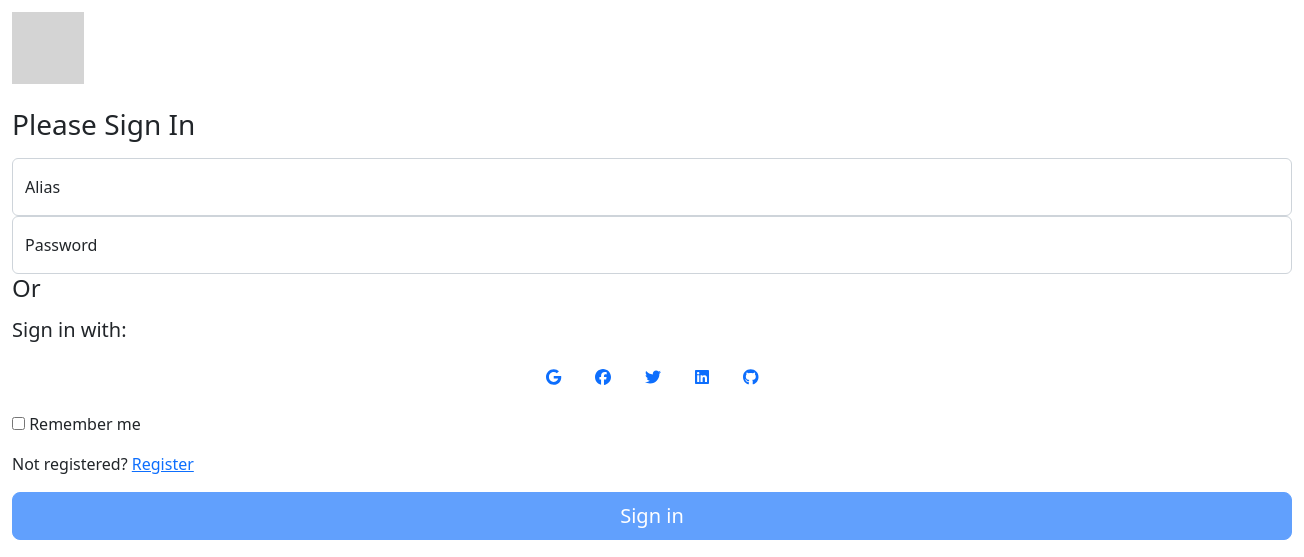
Login Component › disables sign-in button is either fields is clear
The width and height of the screenshot is (1304, 557).
Type "a" into the field labelled "Alias" at (652, 187), box 12,158 -> 1292,216
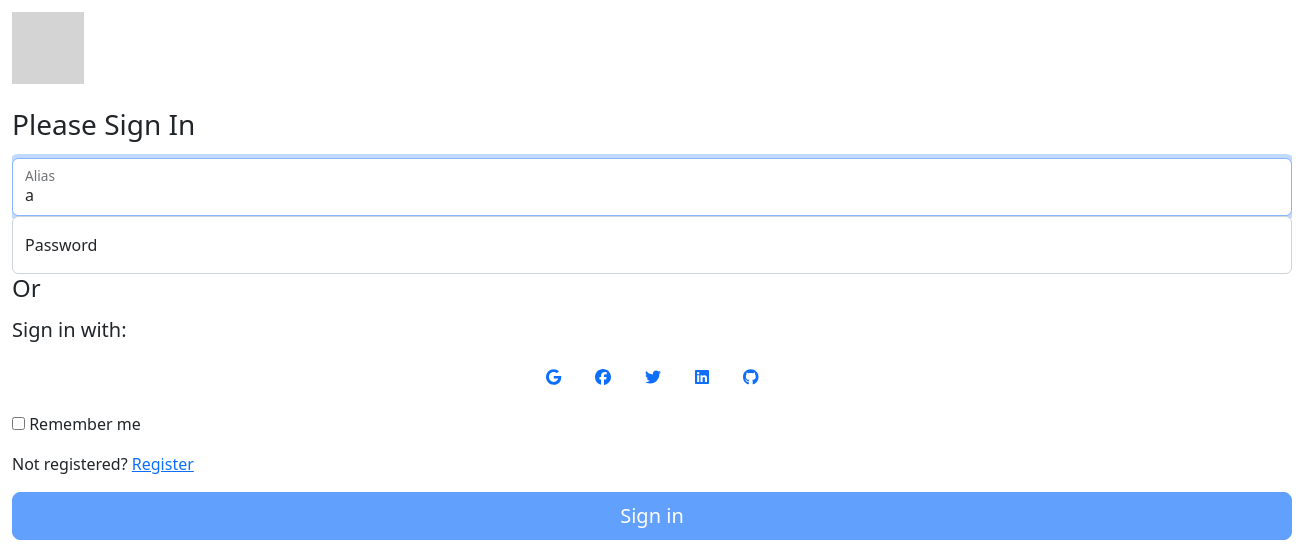
Type "a" into the password field labelled "Password" at (652, 245), box 12,216 -> 1292,274
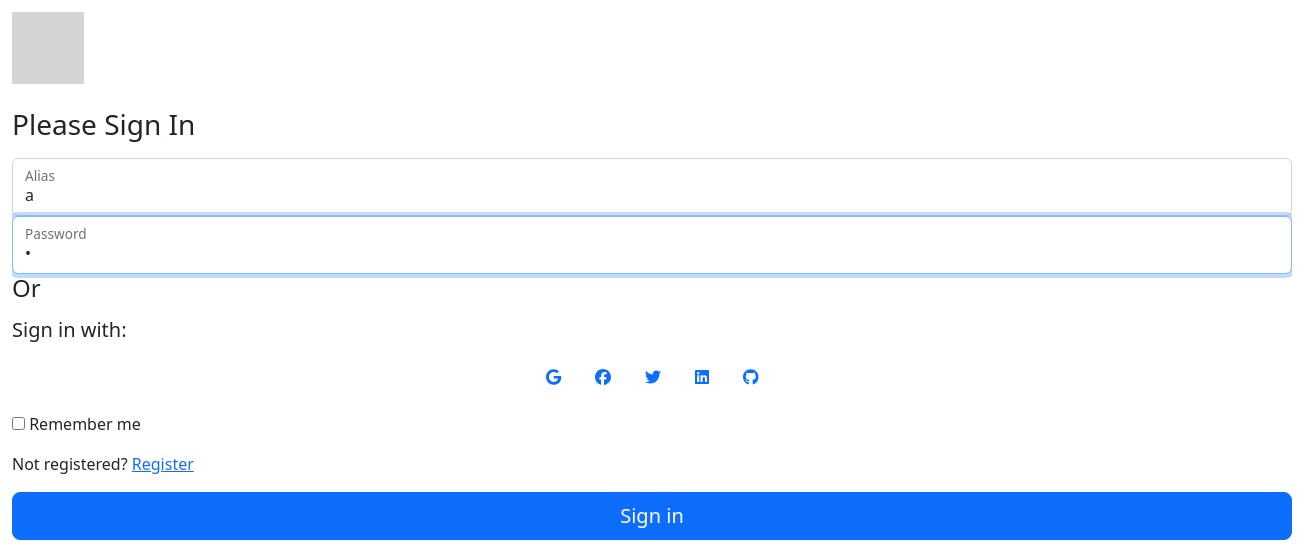
Now the button "Sign in" is enabled, box 12,492 -> 1292,540
Clear the field labelled "Alias" at (652, 187), box 12,158 -> 1292,216
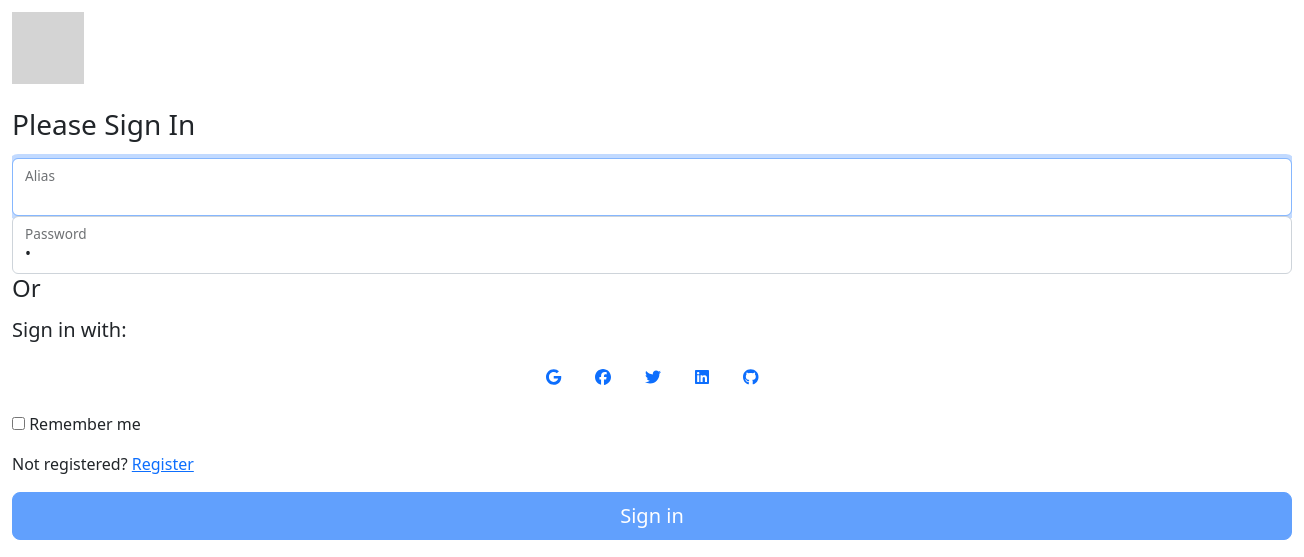
Now the button "Sign in" is disabled, box 12,492 -> 1292,540
Type "b" into the field labelled "Alias" at (652, 187), box 12,158 -> 1292,216
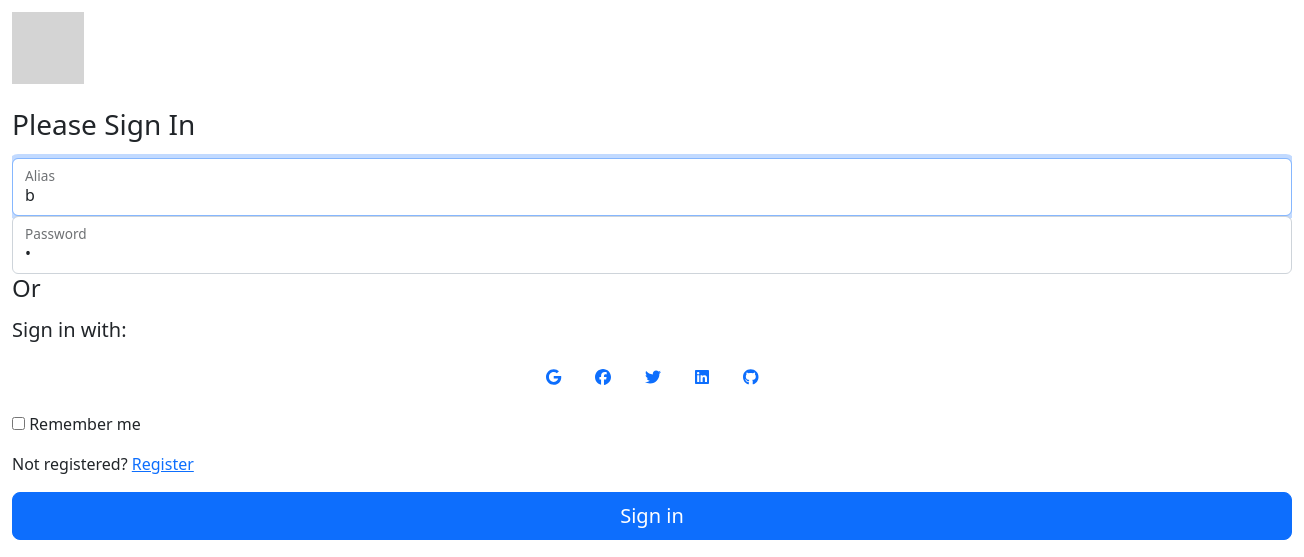
Now the button "Sign in" is enabled, box 12,492 -> 1292,540
Clear the password field labelled "Password" at (652, 245), box 12,216 -> 1292,274
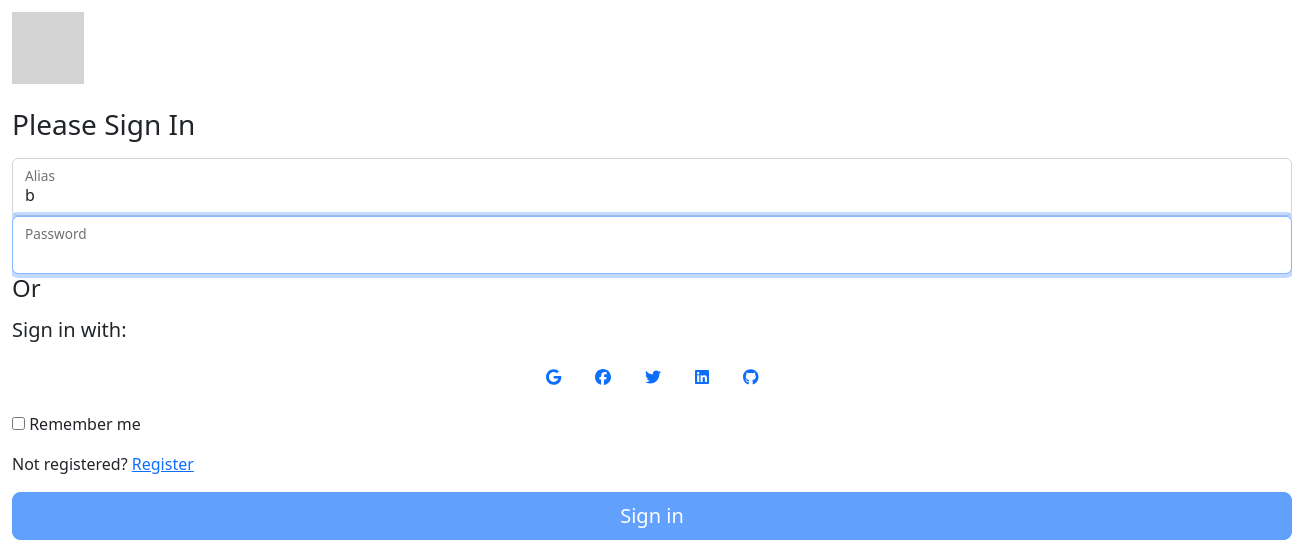
Now the button "Sign in" is disabled, box 12,492 -> 1292,540
